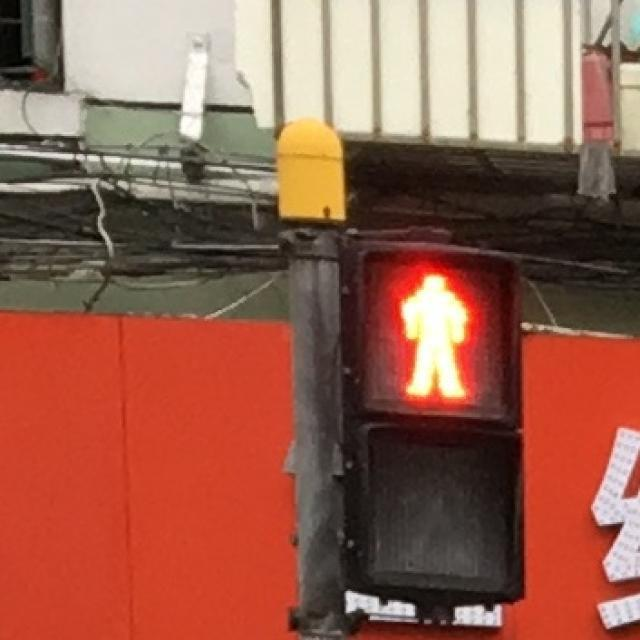red-crossing: (370, 252, 500, 415)
